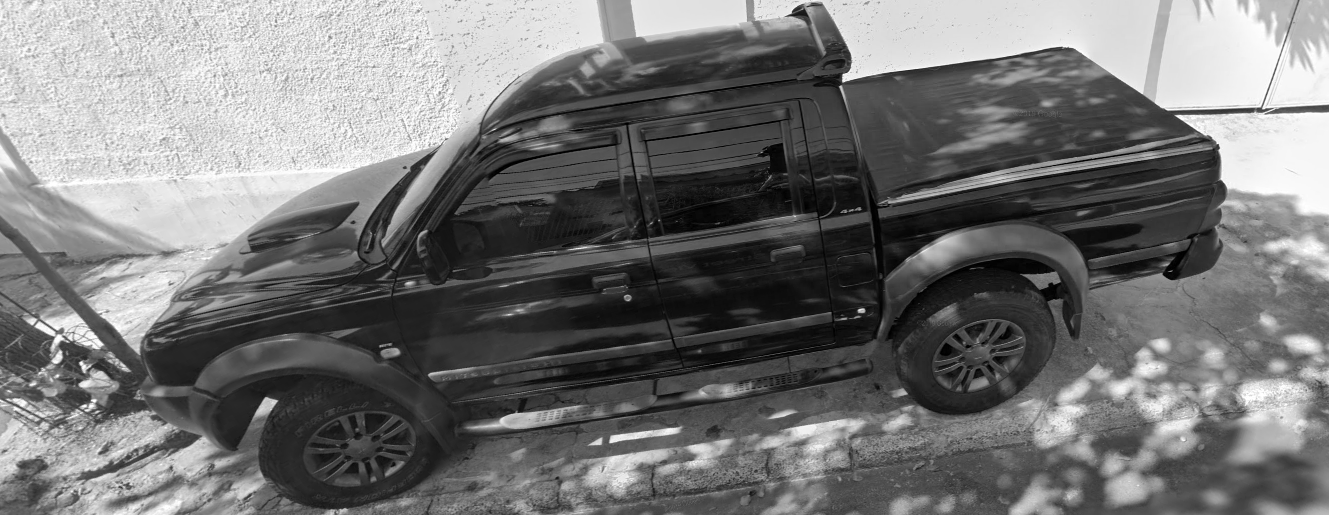car: (131, 18, 1225, 507)
